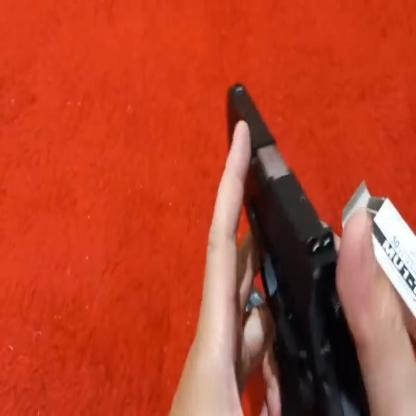handgun: (221, 70, 335, 370)
